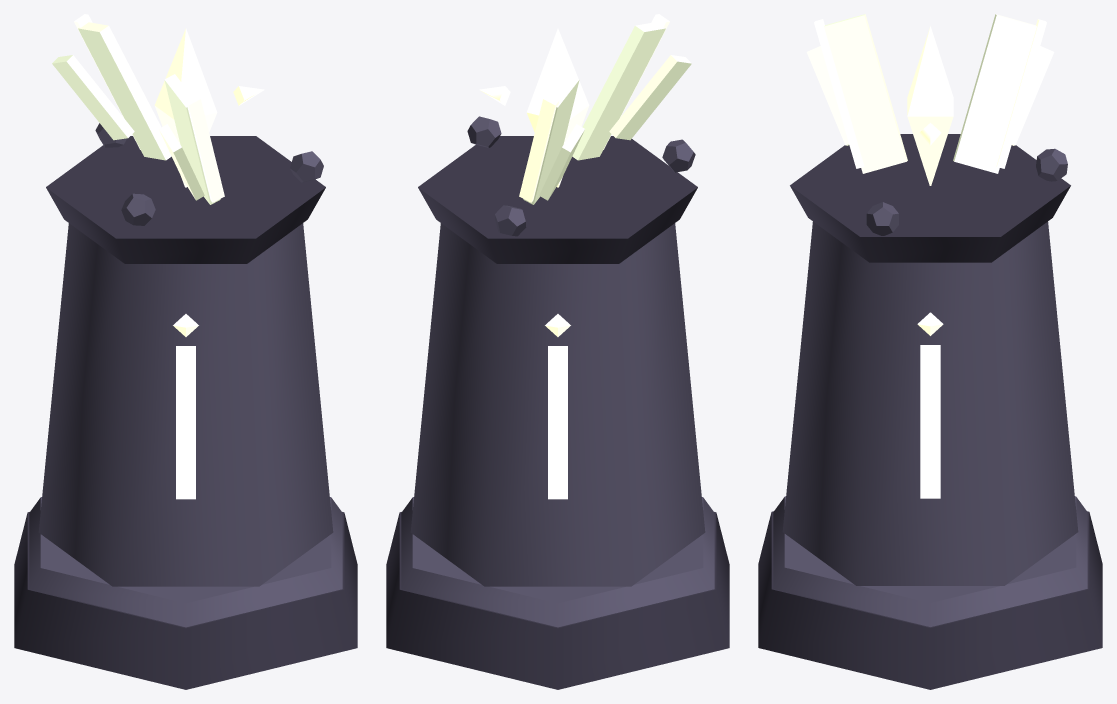
File: tower_element_elementWind.glb
3 views of the same model, side by side, from view 1: azimuth 30°, elevation 25°; view 2: azimuth 150°, elevation 25°; view 3: azimuth 270°, elevation 25° (orthographic).
Visible parts, largest first — view 1: pillar, base, pillar_cap, base_top, wing_r_vane, rune_2, crystal, wing_r_vane_b, aura, wing_l_vane, wing_l_edge, wing_l_vane_b; view 2: pillar, base, pillar_cap, base_top, wing_l_vane, rune_1, crystal, aura, wing_l_vane_b, wing_r_vane, wing_r_edge, wing_r_vane_b; view 3: pillar, base, pillar_cap, base_top, wing_l_vane, wing_r_vane, crystal, rune_0, aura, wing_l_edge, wing_r_edge, wing_l_vane_b (+1 smaller).
Part boxes in pixels (x1,y1,x2,y2): pillar: (38, 223, 333, 586); base: (14, 512, 357, 689); pillar_cap: (46, 136, 325, 263); base_top: (29, 497, 342, 627); wing_r_vane: (78, 22, 171, 160); rune_2: (176, 346, 195, 499); crystal: (154, 28, 217, 187); wing_r_vane_b: (52, 55, 134, 140); aura: (95, 123, 323, 225); wing_l_vane: (164, 74, 220, 204); wing_l_edge: (184, 94, 224, 202); wing_l_vane_b: (159, 124, 204, 200); pillar: (410, 223, 705, 586); base: (386, 512, 729, 689); pillar_cap: (418, 136, 697, 263); base_top: (401, 497, 714, 627); wing_l_vane: (572, 22, 665, 160); rune_1: (548, 346, 567, 499); crystal: (526, 28, 589, 187); aura: (467, 116, 695, 236); wing_l_vane_b: (609, 55, 691, 140); wing_r_vane: (523, 74, 579, 204); wing_r_edge: (519, 94, 559, 202); wing_r_vane_b: (539, 124, 584, 200); pillar: (782, 221, 1078, 585); base: (758, 511, 1102, 689); pillar_cap: (790, 134, 1070, 262); base_top: (773, 496, 1087, 626); wing_l_vane: (824, 14, 907, 173); wing_r_vane: (953, 14, 1036, 173); crystal: (907, 26, 953, 185); rune_0: (920, 345, 940, 498); aura: (866, 148, 1067, 235); wing_l_edge: (814, 19, 864, 168); wing_r_edge: (996, 19, 1046, 168); wing_l_vane_b: (806, 46, 849, 145).
Bounding box in the file's own units: 0.39 × 0.628 × 0.3377.
